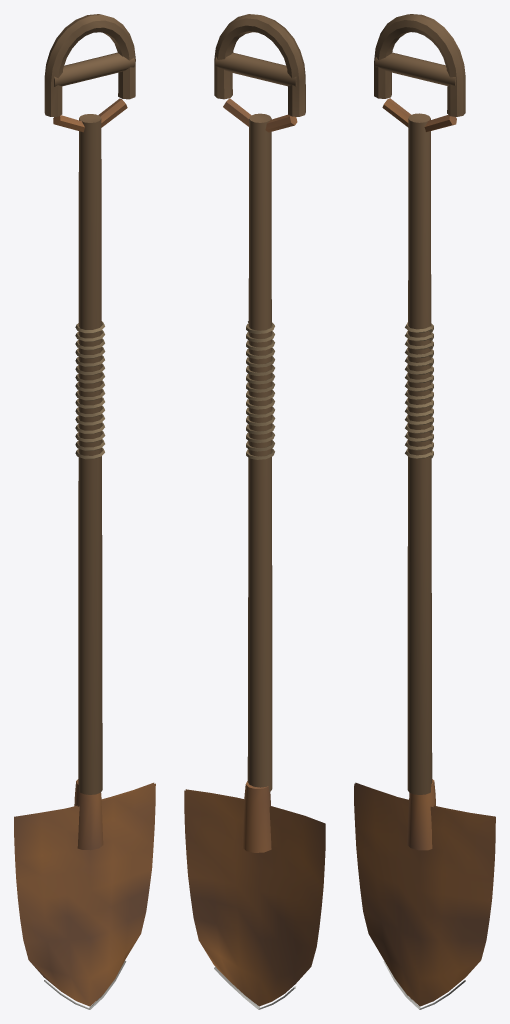
The model's file is sharpened-shovel.glb.
The picture shows the model from 3 angles, left to right: view 1: azimuth 30°, elevation 25°; view 2: azimuth 150°, elevation 25°; view 3: azimuth 330°, elevation 25°; orthographic projection.
Parts seen in each view (by area): view 1: sharpened-shovel; view 2: sharpened-shovel; view 3: sharpened-shovel.
Part boxes in pixels (left/top/right/bottom): sharpened-shovel: left=14, top=14, right=155, bottom=1009; sharpened-shovel: left=184, top=14, right=325, bottom=1009; sharpened-shovel: left=354, top=14, right=495, bottom=1009.
Size of the model in its own units: 0.21 by 1.42 by 0.0438.
